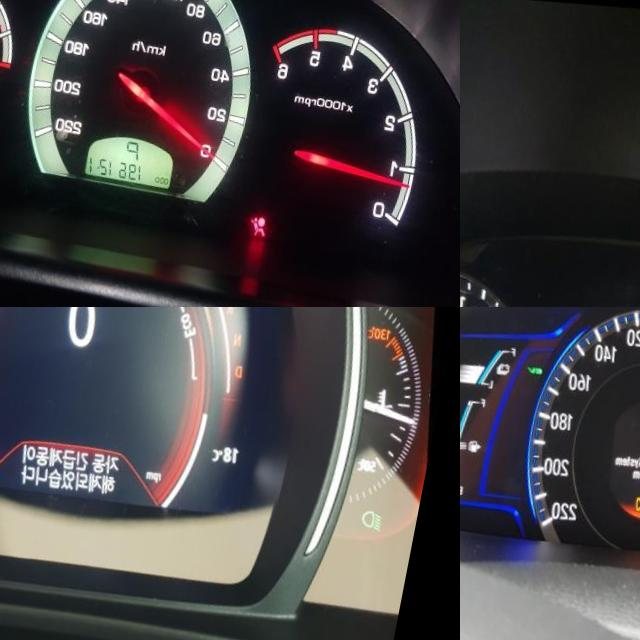Low beam: (375, 480, 400, 507)
